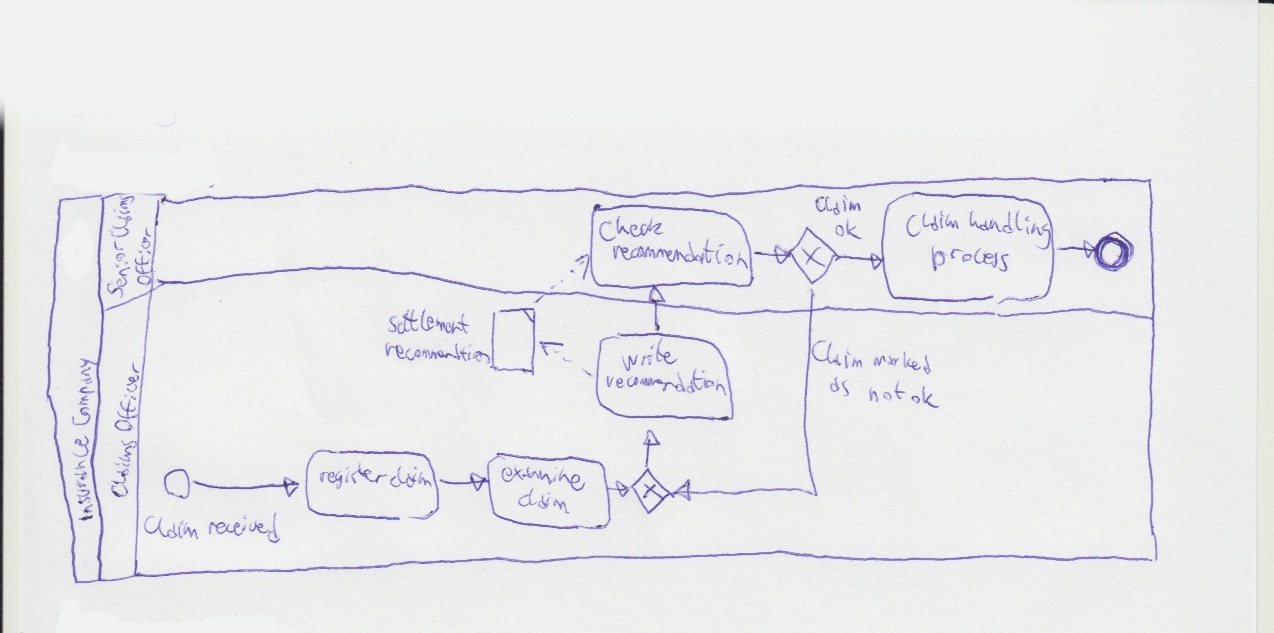Check: (591, 210, 669, 248)
Claim: (805, 334, 868, 375), (899, 205, 965, 243), (138, 510, 204, 547), (810, 191, 866, 220)
Claims: (104, 434, 141, 505), (104, 192, 139, 243)
Company: (65, 353, 105, 431)
Insurance: (65, 429, 98, 528)
Officer: (107, 356, 144, 438), (129, 224, 158, 290)
Senior: (101, 237, 134, 305)
as: (824, 374, 857, 403)
claim: (512, 483, 575, 520), (384, 460, 436, 495)
examine: (494, 458, 592, 498)
handling: (964, 203, 1056, 255)
marked: (868, 345, 937, 380)
not: (863, 375, 911, 410)
ok: (905, 380, 944, 414), (827, 215, 866, 245)
process: (925, 240, 1015, 280)
received: (201, 508, 286, 551)
recommendation: (607, 234, 752, 274), (601, 363, 731, 400)
recommendtion: (378, 337, 495, 372)
register: (311, 460, 393, 494)
settlement: (382, 303, 475, 341)
write: (616, 334, 682, 378)
